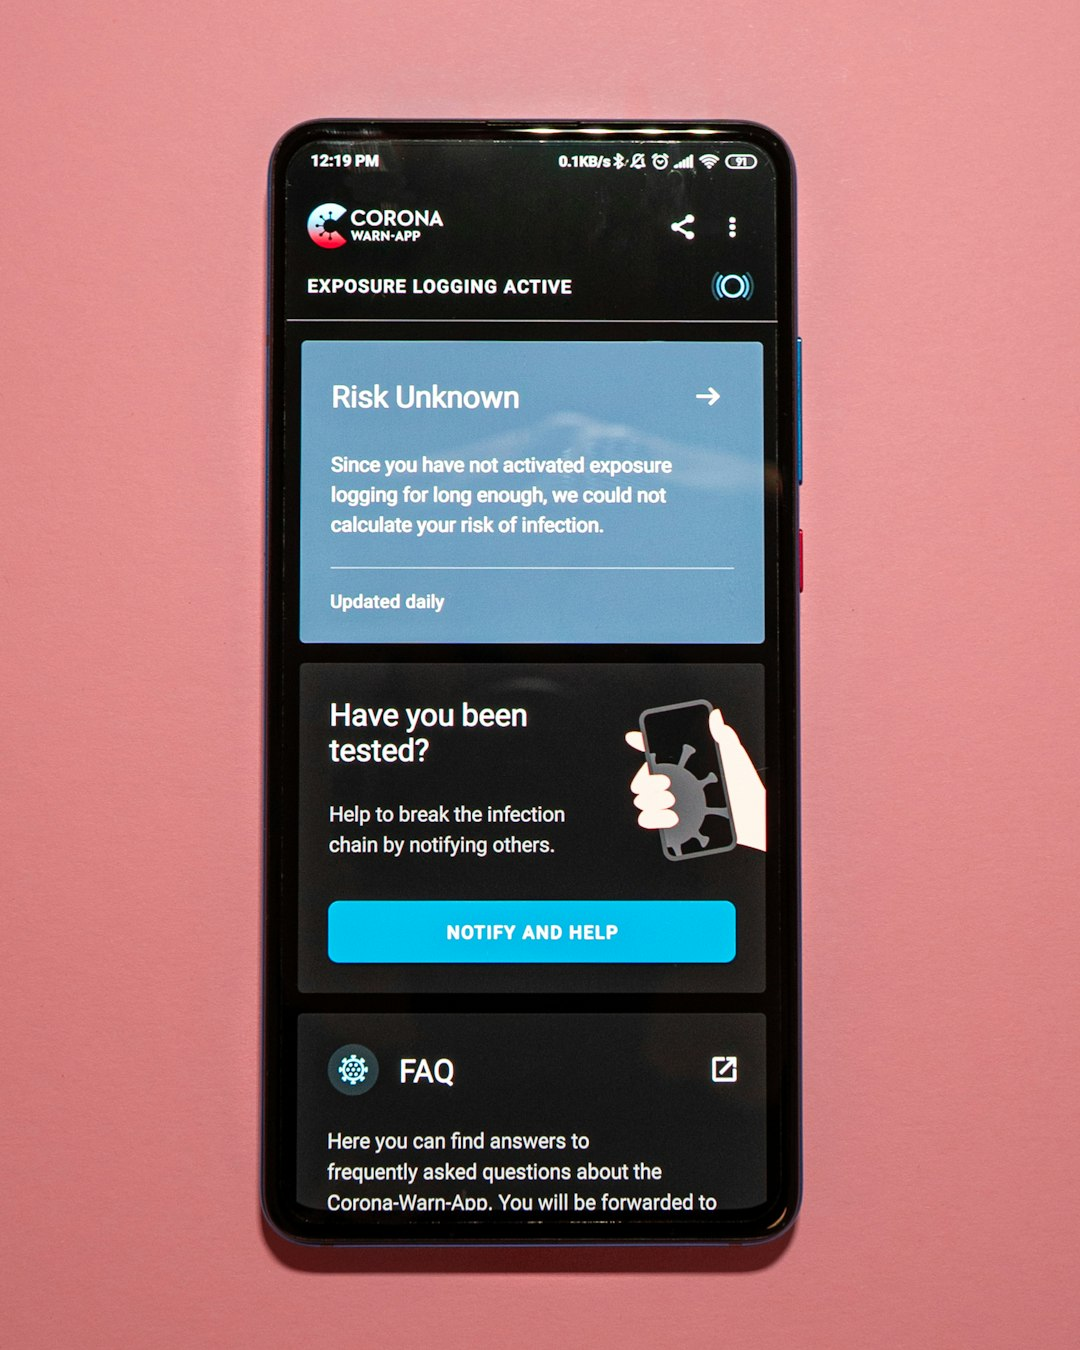phone: (259, 114, 810, 1254)
